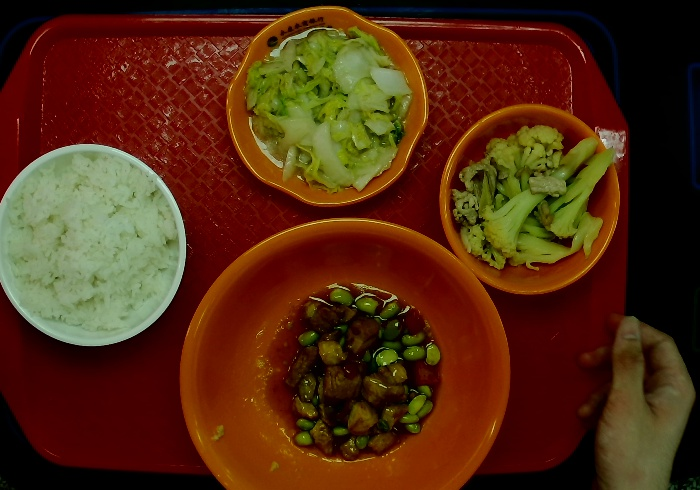YKMZ-Fan_Wan: (1, 135, 195, 353)
YKMZ-Ju_Se_Ao_Bian_Wan: (218, 1, 435, 213)
YKMZ-Ju_Se_Tang_Wan: (174, 211, 519, 490)
YKMZ-Ju_Se_Yuan_Wan: (433, 102, 624, 302)
